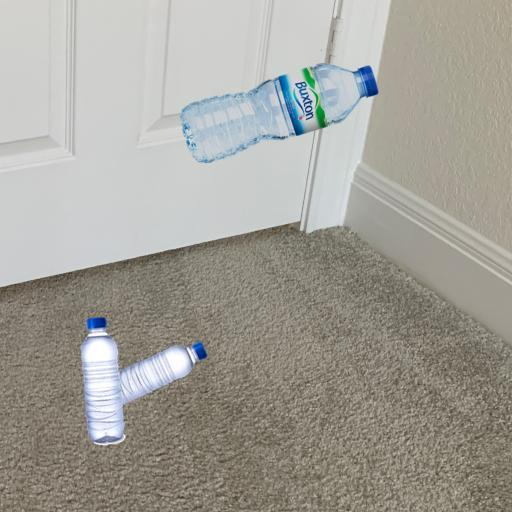bottle: (169, 41, 384, 174), (62, 359, 206, 364)
